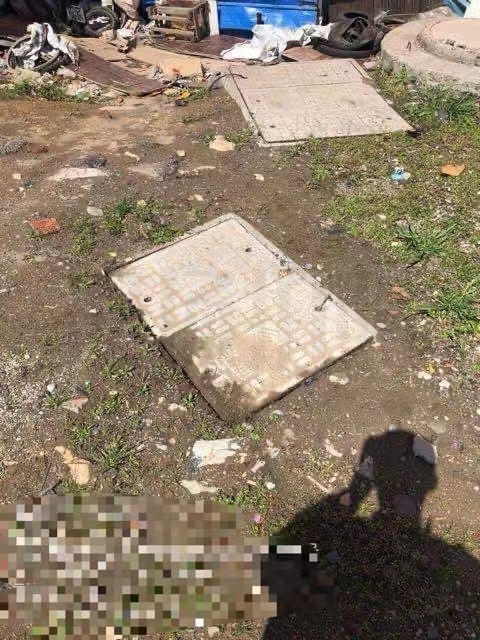well: (103, 210, 383, 422), (228, 78, 422, 146)
